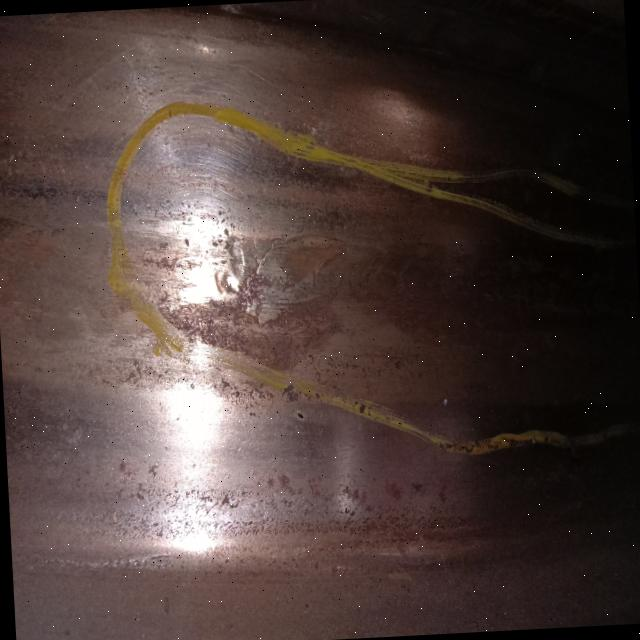flat: (183, 193, 392, 337)
